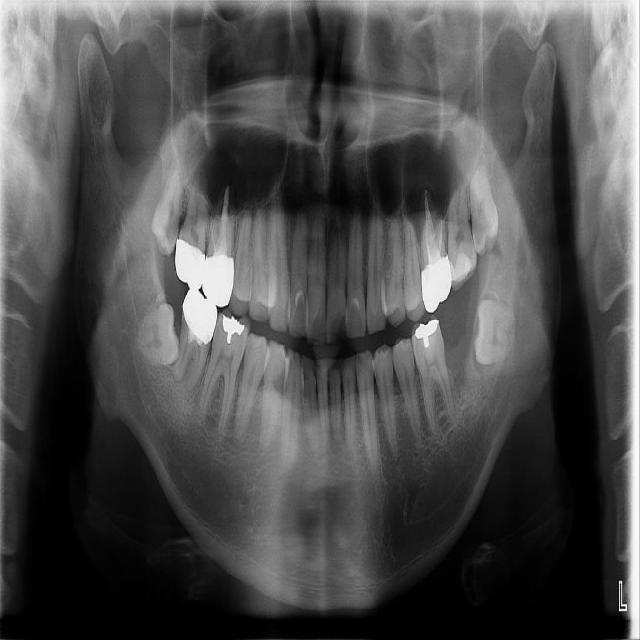3M ESPE Implant: (145, 154, 195, 259)
52: (174, 286, 222, 354), (205, 305, 255, 370), (406, 313, 451, 369), (445, 233, 481, 292), (199, 254, 237, 308), (420, 256, 454, 314), (172, 238, 207, 292)
73: (417, 186, 449, 272), (205, 178, 238, 258), (624, 619, 634, 629)
BioHorizons Implant: (448, 166, 477, 291)
BioLife Implant: (467, 154, 502, 258)
Biomet 3i Implant: (472, 299, 517, 368)
Caries: (170, 163, 218, 291)
Implant: (168, 287, 222, 395)
Keystone Dental Implant: (133, 301, 183, 368)
